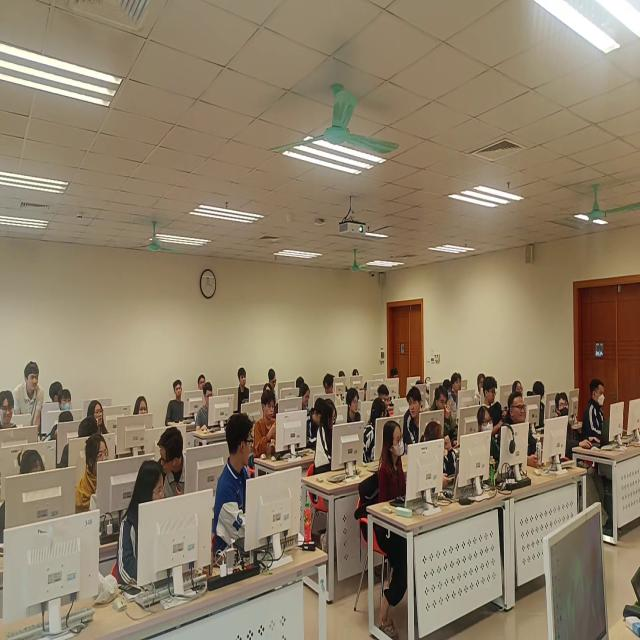raise_head: (506, 390, 545, 465), (476, 404, 501, 474), (554, 390, 581, 453), (432, 385, 457, 444), (164, 379, 187, 426), (85, 398, 108, 430), (1, 385, 16, 434), (236, 366, 251, 408), (56, 388, 75, 414), (131, 395, 151, 418), (452, 372, 465, 399), (513, 376, 527, 395), (426, 375, 435, 397), (197, 375, 208, 392), (478, 371, 486, 394)
stand: (14, 359, 43, 431)
using_computer: (3, 446, 49, 536), (421, 421, 458, 492), (379, 416, 406, 502), (313, 398, 339, 473), (62, 417, 99, 467), (585, 376, 608, 441), (485, 374, 510, 431), (303, 399, 325, 448), (45, 410, 75, 443), (197, 380, 216, 432), (529, 378, 549, 425), (378, 382, 394, 418), (346, 387, 361, 423), (267, 366, 279, 390), (443, 377, 454, 400), (390, 364, 402, 382), (295, 377, 308, 391), (352, 366, 361, 380), (338, 370, 348, 380)
using_phone: (254, 390, 282, 462)
